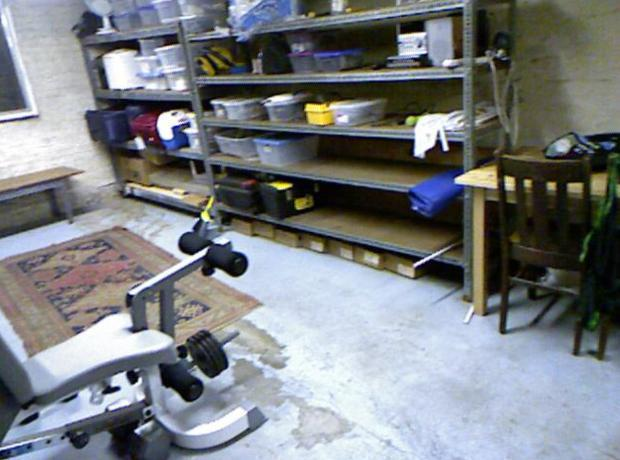Otro Obstaculo: (3, 220, 267, 458)
